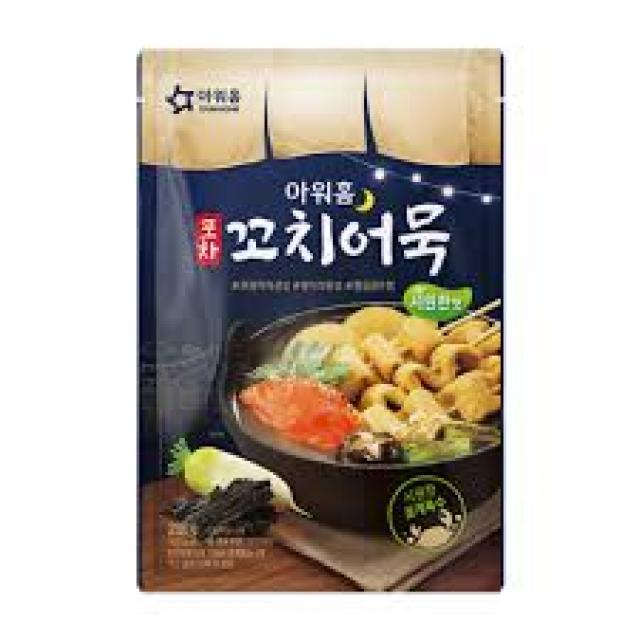fish_cake: (134, 42, 504, 592)
